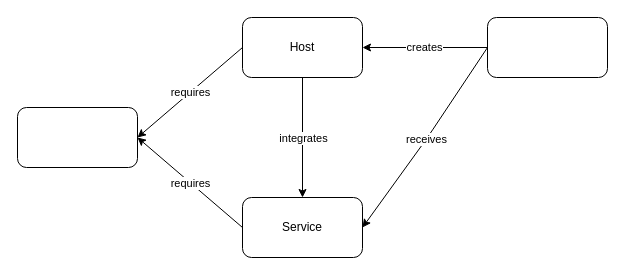
The diagram is 625 pixels wide and 275 high, and some of its shapes have lost their labels. The shapes that lost their labels are listed below. From the top down, each one's centre as x and y in pixels, then its label:
At [547,47]: "HostManager".
At [77,137]: "Resource".
